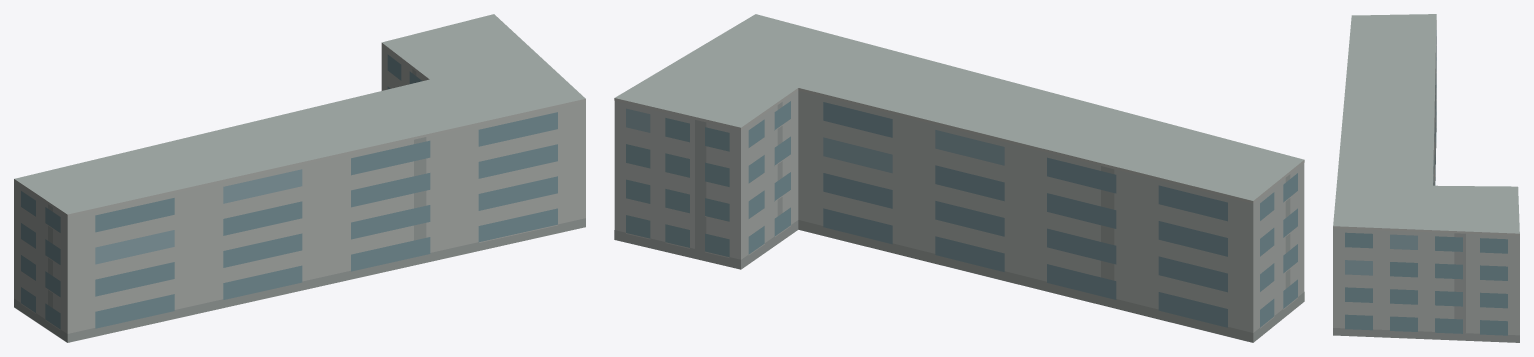
File: residential-83ef74f5-399b-4d92-86ca-b1d7170e3451.glb
3 views of the same model, side by side, from view 1: azimuth 30°, elevation 25°; view 2: azimuth 150°, elevation 25°; view 3: azimuth 270°, elevation 25° (orthographic). The views are drawn at different scales.
Visible parts, largest first — view 1: residential-83ef74f5-399b-4d92-86ca-b1d7170e3451.tmp; view 2: residential-83ef74f5-399b-4d92-86ca-b1d7170e3451.tmp; view 3: residential-83ef74f5-399b-4d92-86ca-b1d7170e3451.tmp.
Boxes of the visible parts, bbox=[...] form: residential-83ef74f5-399b-4d92-86ca-b1d7170e3451.tmp: bbox=[14, 14, 585, 342]; residential-83ef74f5-399b-4d92-86ca-b1d7170e3451.tmp: bbox=[614, 14, 1304, 342]; residential-83ef74f5-399b-4d92-86ca-b1d7170e3451.tmp: bbox=[1333, 14, 1519, 342].
Bounding box in the file's own units: 52.6 × 12.2 × 18.91.
